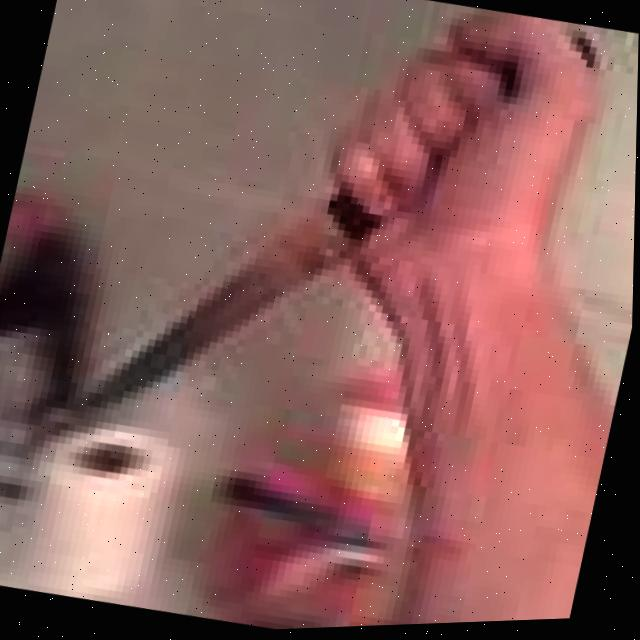knife: (16, 170, 345, 485)
